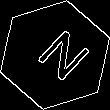N_SW: (22, 23, 88, 87)
